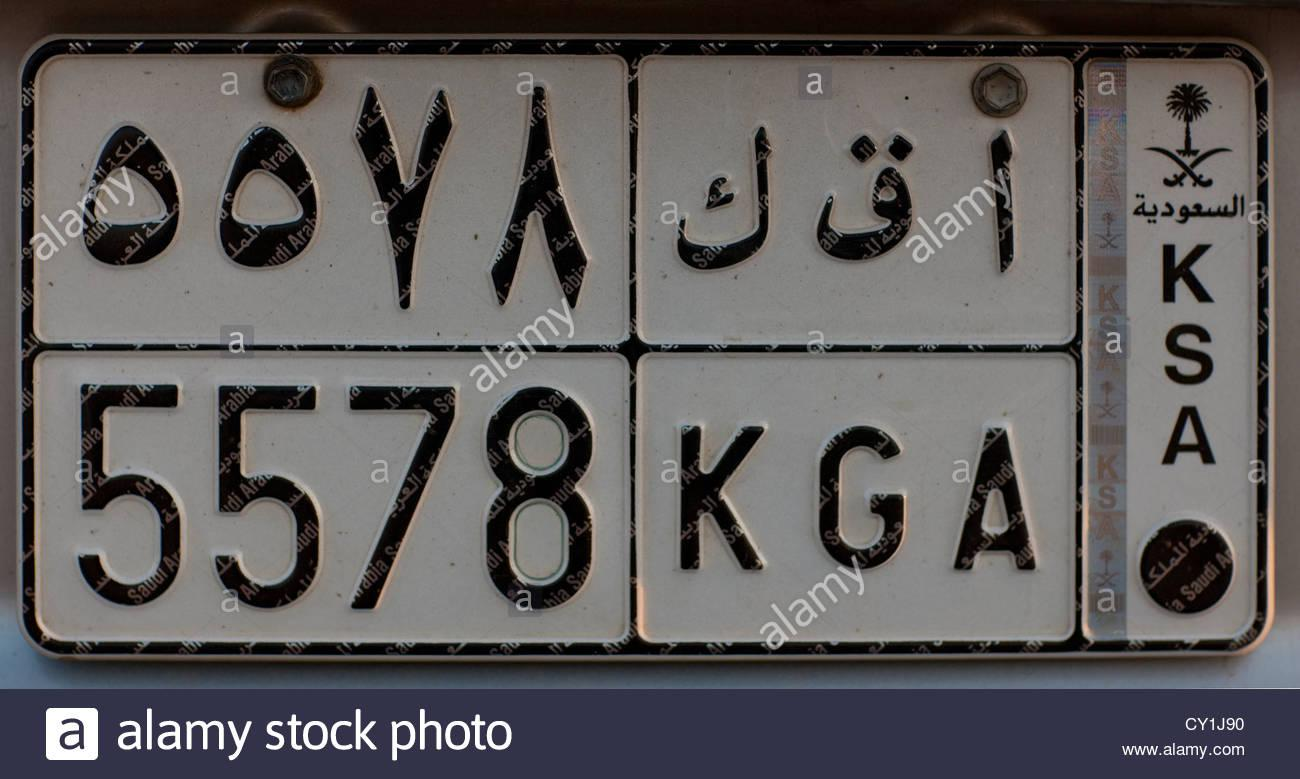5: (211, 121, 328, 614), (75, 118, 188, 610)
7: (347, 80, 458, 616)
8: (482, 79, 599, 614)
A: (952, 127, 1041, 582)
G: (813, 132, 916, 578)
K: (672, 123, 773, 583)
